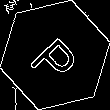P_NE: (25, 24, 85, 86)
